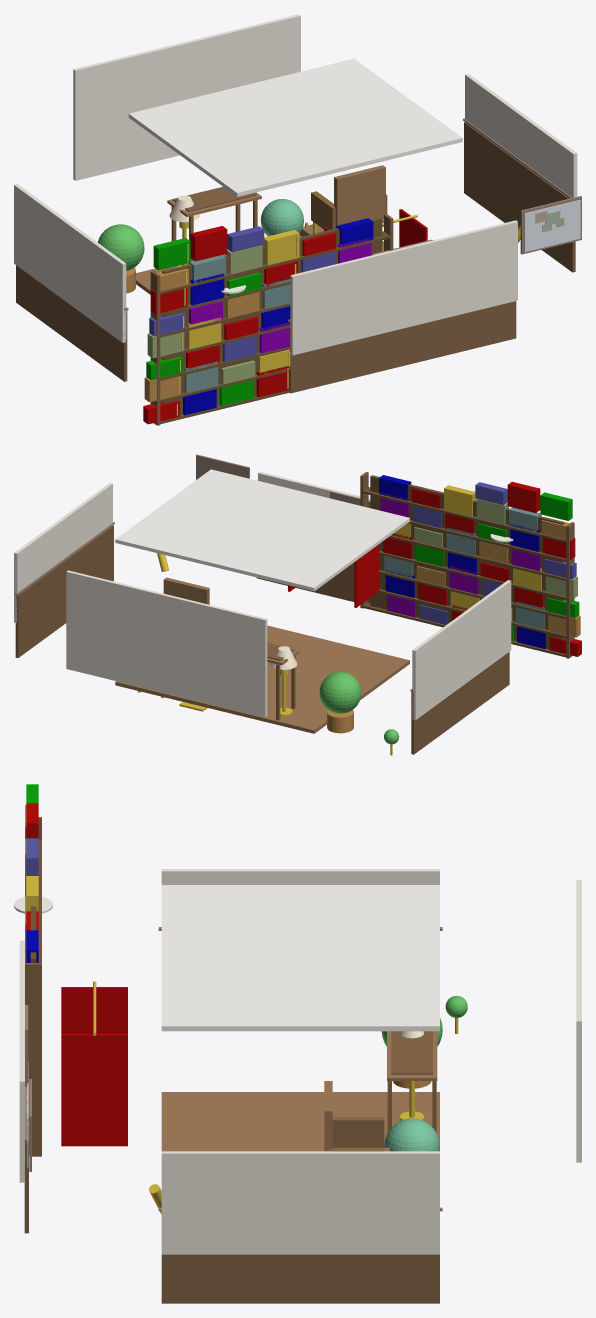
Rendered from room_reading.glb.
3 views of the same model, one above another, from view 1: azimuth 30°, elevation 25°; view 2: azimuth 150°, elevation 25°; view 3: azimuth 270°, elevation 25° (orthographic). The views are drawn at different scales.
Visible parts, largest first — view 1: Ceiling, BackWall, FrontWall_T, LeftWall, WP_B, WP_R, RightWall, WP_L, BWallBack, RChairB, MapC, FPlant (+39 smaller); view 2: FrontWall_T, Ceiling, Floor, LeftWall, WP_R, RightWall, BWallBack, WP_L, FPlant, RCur_0, WP_B, RB43 (+50 smaller); view 3: Ceiling, RightWall, WP_R, Floor, RCur_1, LeftWall, RCur_0, BWSide_-30, RDeskPad, FrontWall_T, RChairAL, RGlobe (+3 smaller).
Part boxes in pixels (x1=…): Ceiling: x1=128, y1=58, x2=462, y2=196; BackWall: x1=290, y1=220, x2=517, y2=355; FrontWall_T: x1=73, y1=14, x2=300, y2=180; LeftWall: x1=14, y1=184, x2=126, y2=342; WP_B: x1=289, y1=301, x2=516, y2=393; WP_R: x1=464, y1=122, x2=575, y2=272; RightWall: x1=465, y1=74, x2=577, y2=197; WP_L: x1=16, y1=265, x2=127, y2=381; BWallBack: x1=162, y1=218, x2=382, y2=414; RChairB: x1=334, y1=165, x2=385, y2=228; MapC: x1=524, y1=200, x2=580, y2=251; FPlant: x1=97, y1=224, x2=144, y2=270; FrontWall_T: x1=66, y1=570, x2=267, y2=717; Ceiling: x1=115, y1=469, x2=409, y2=591; Floor: x1=115, y1=625, x2=409, y2=733; LeftWall: x1=412, y1=580, x2=511, y2=720; WP_R: x1=15, y1=525, x2=113, y2=657; RightWall: x1=14, y1=483, x2=112, y2=622; BWallBack: x1=370, y1=475, x2=564, y2=649; WP_L: x1=411, y1=652, x2=509, y2=754; FPlant: x1=319, y1=671, x2=361, y2=713; RCur_0: x1=354, y1=544, x2=379, y2=607; WP_B: x1=256, y1=562, x2=370, y2=602; RB43: x1=507, y1=481, x2=540, y2=512; Ceiling: x1=161, y1=885, x2=439, y2=1031; RightWall: x1=161, y1=1151, x2=439, y2=1254; WP_R: x1=161, y1=1254, x2=439, y2=1303; Floor: x1=161, y1=1092, x2=439, y2=1151; RCur_1: x1=61, y1=1034, x2=127, y2=1146; LeftWall: x1=161, y1=869, x2=439, y2=884; RCur_0: x1=61, y1=987, x2=127, y2=1033; BWSide_-30: x1=25, y1=963, x2=41, y2=1156; RDeskPad: x1=391, y1=1031, x2=432, y2=1074; FrontWall_T: x1=576, y1=880, x2=581, y2=1162; RChairAL: x1=332, y1=1117, x2=384, y2=1147; RGlobe: x1=384, y1=1118, x2=439, y2=1151.
Bounding box in the file's own units: 1282 × 490 × 1020.
